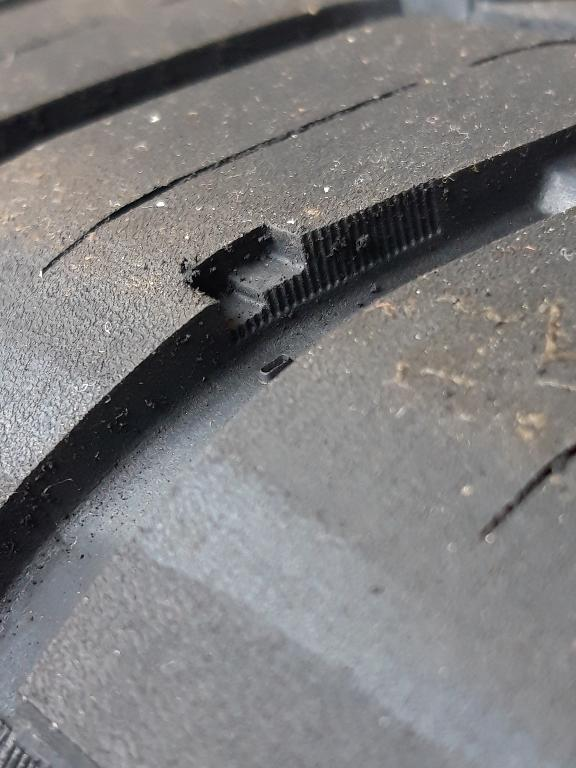temoin:50: (171, 200, 356, 352)
